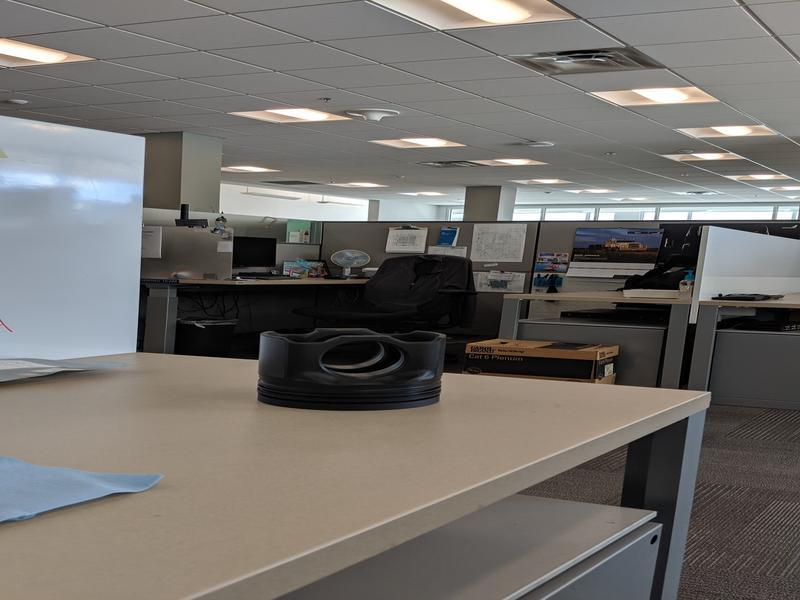piston: (252, 322, 449, 413)
